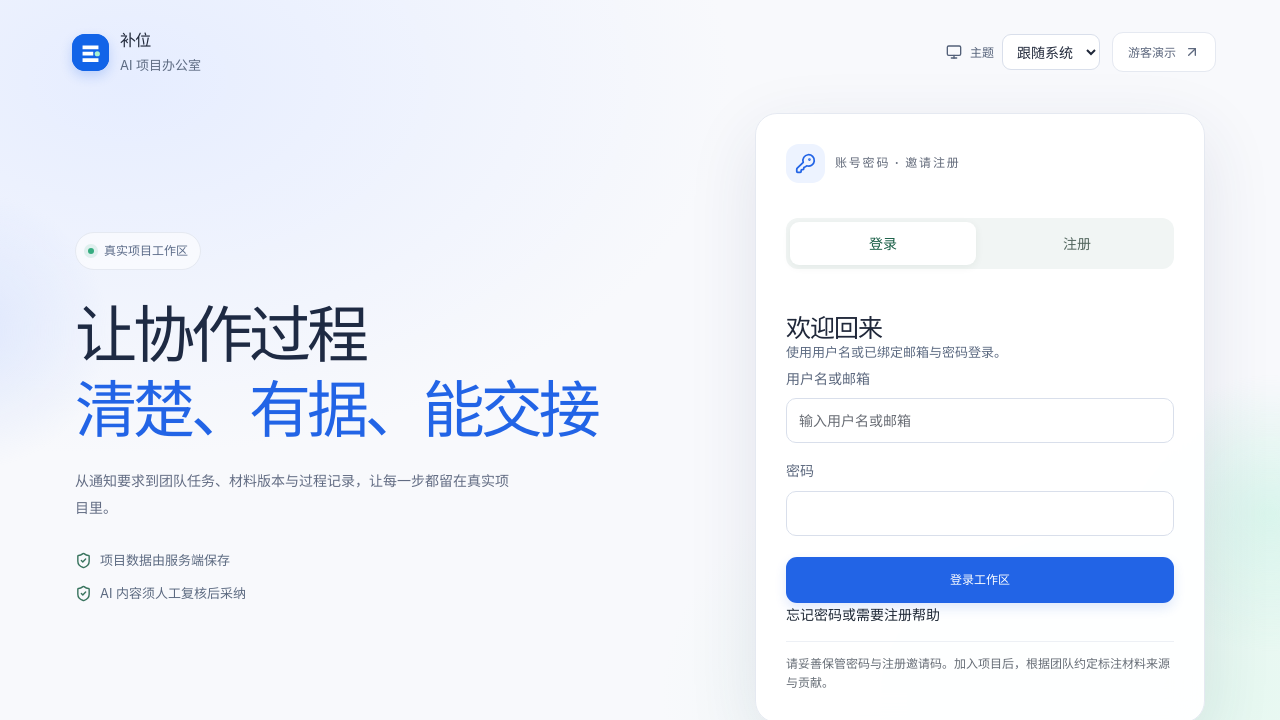
Test case: password login and invitation registration › explains offline login, preserves inputs and resumes after reconnecting
The image size is (1280, 720).
Step 1. Type "team_member" into the field labelled "用户名或邮箱" → (980, 421), box 786,398 -> 1174,444
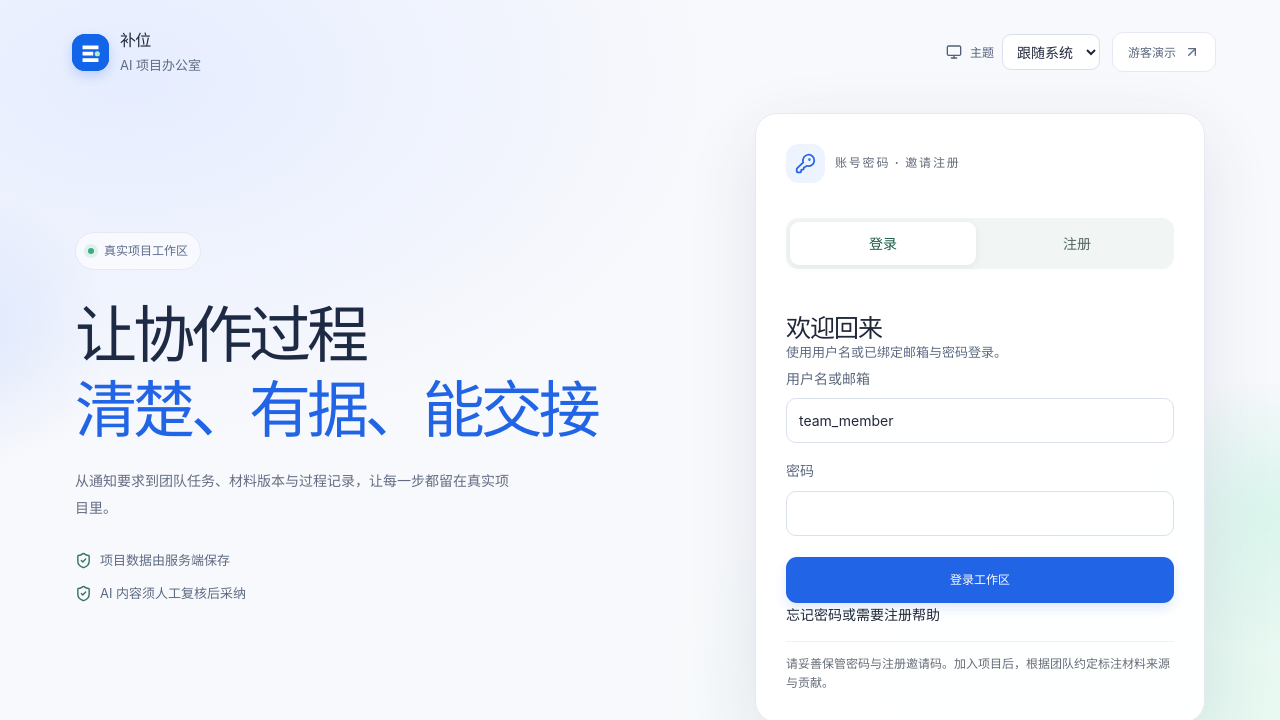
Step 2. Type "a-long-test-password" into the password field labelled "密码" → (980, 513), box 786,490 -> 1174,536
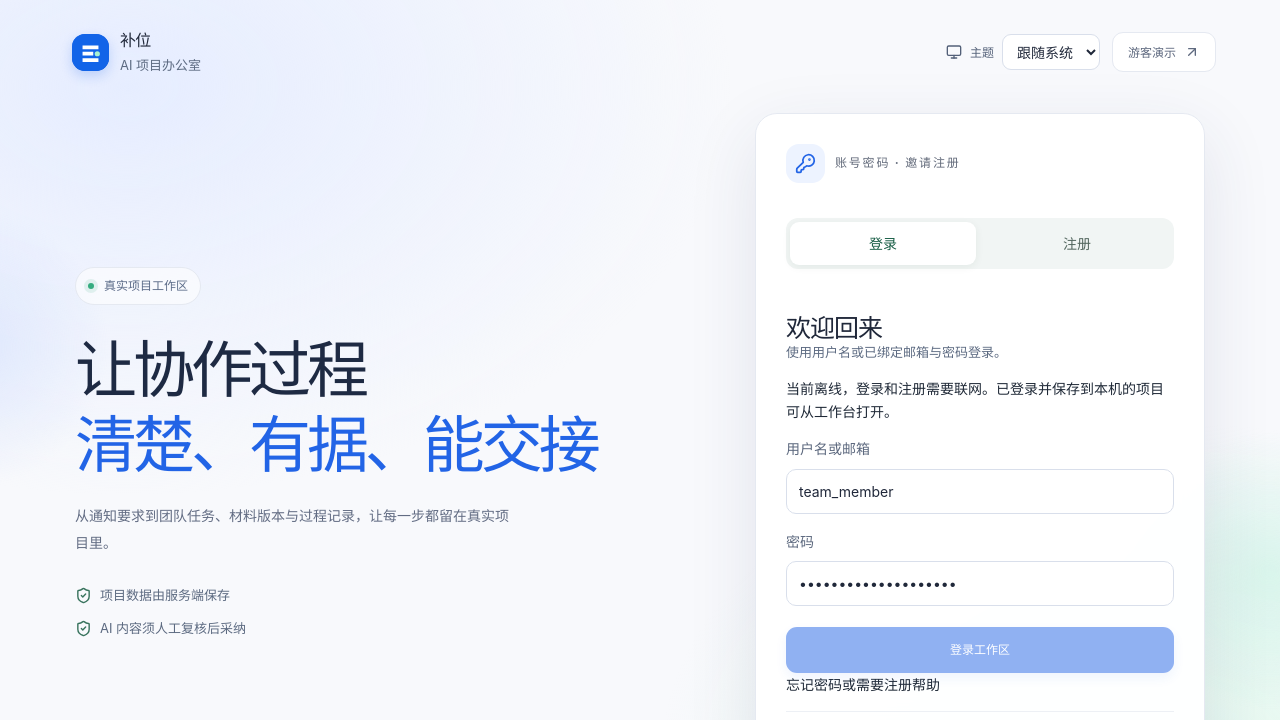
Expected: the button "登录工作区" is disabled, 786,627 -> 1174,673
Expected: the text "当前离线，登录和注册需要联网。已登录并保存到本机的项目可从工作台打开。" is shown, 786,377 -> 1174,424
Step 3. Submit the form labelled "密码", box 786,438 -> 1174,673
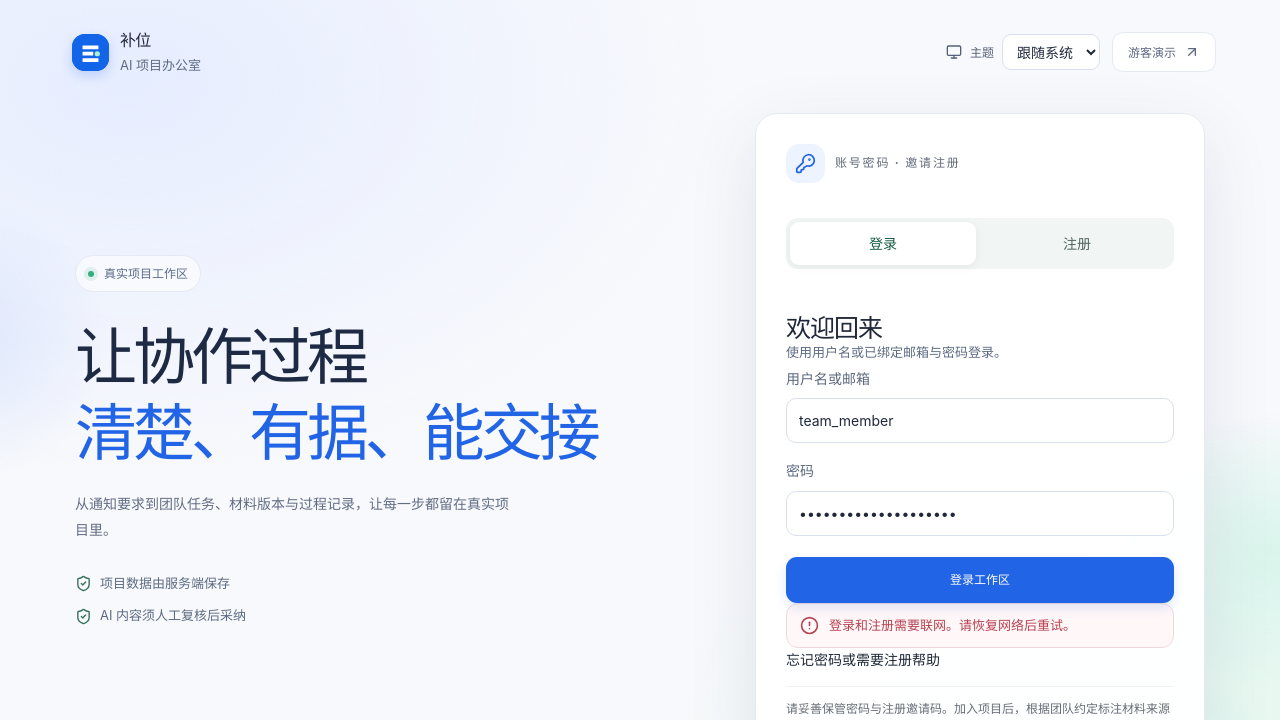
Expected: the message shows "登录和注册需要联网", 829,617 -> 1076,633
Expected: the button "登录工作区" is enabled, 786,557 -> 1174,603
